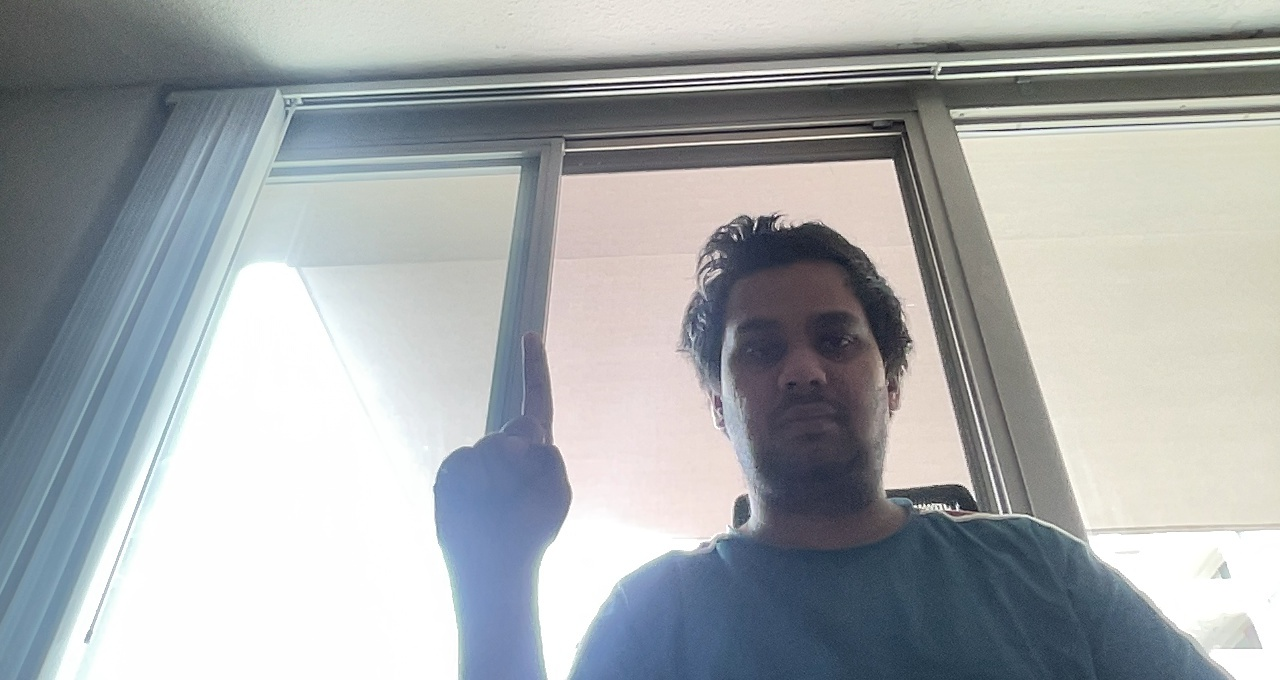fingerup: (425, 323, 587, 569)
